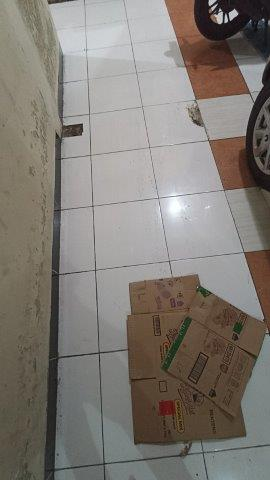kardus: (128, 276, 265, 442)
